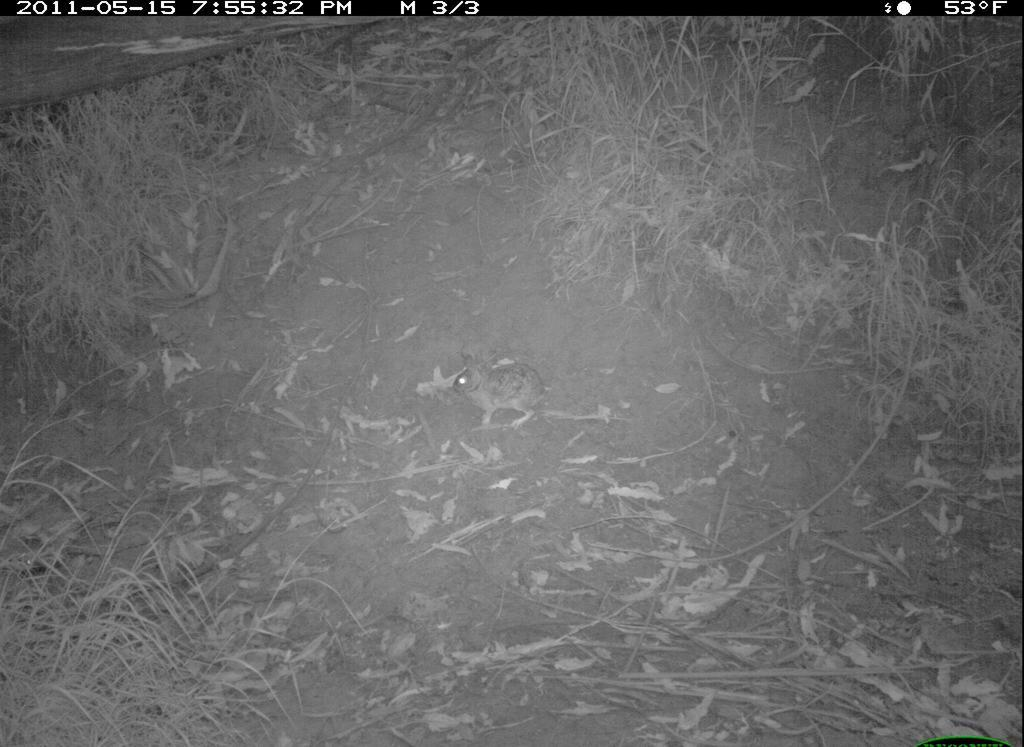rabbit: (445, 351, 552, 432)
